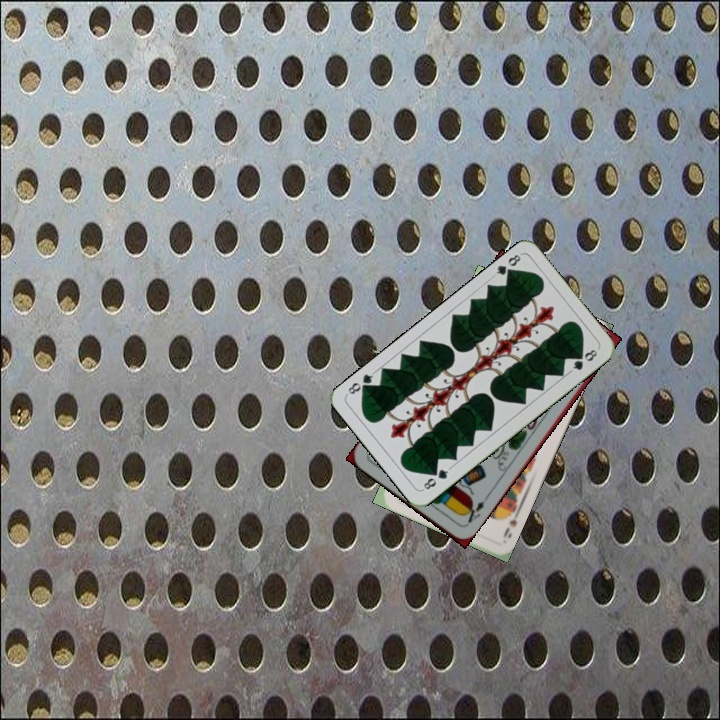EA: (459, 497, 487, 528)
G8: (418, 463, 453, 493), (489, 250, 524, 280)
S9: (499, 504, 523, 544)
